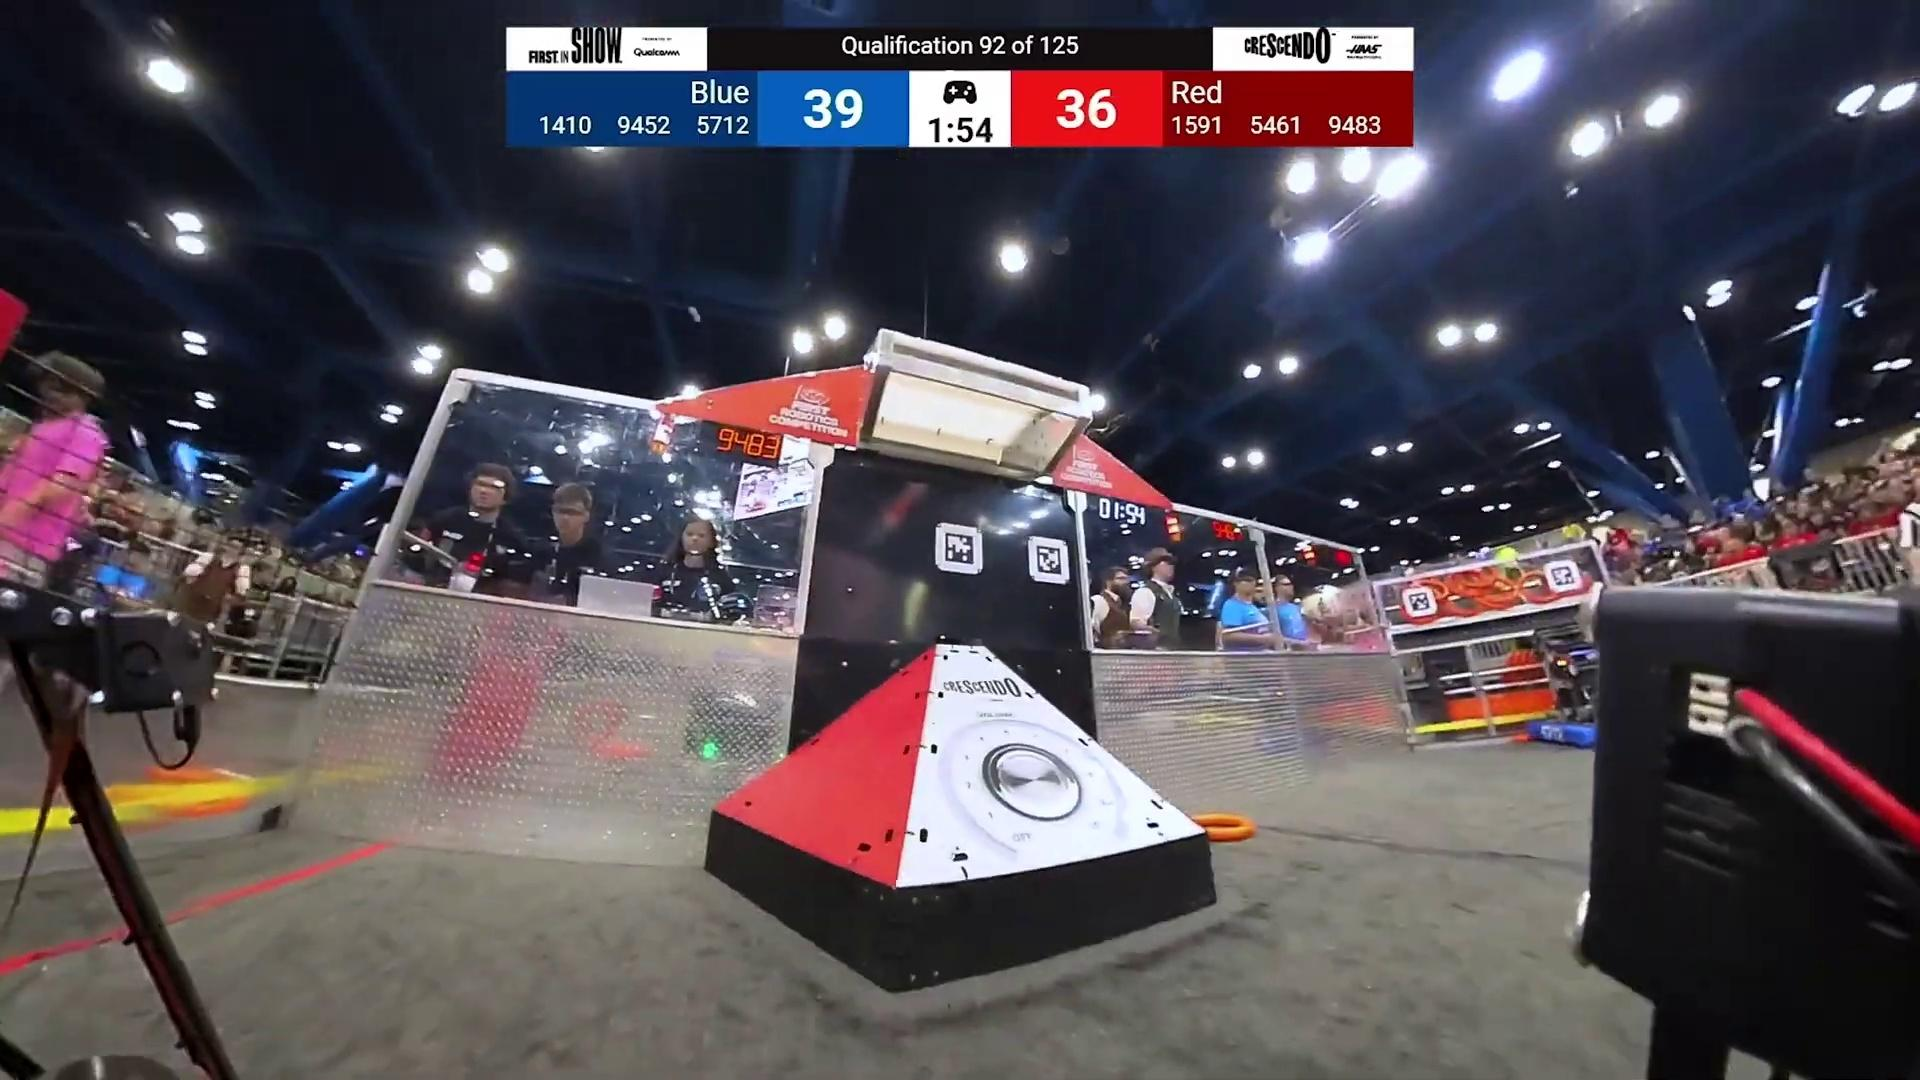robot: (1527, 618, 1598, 748)
